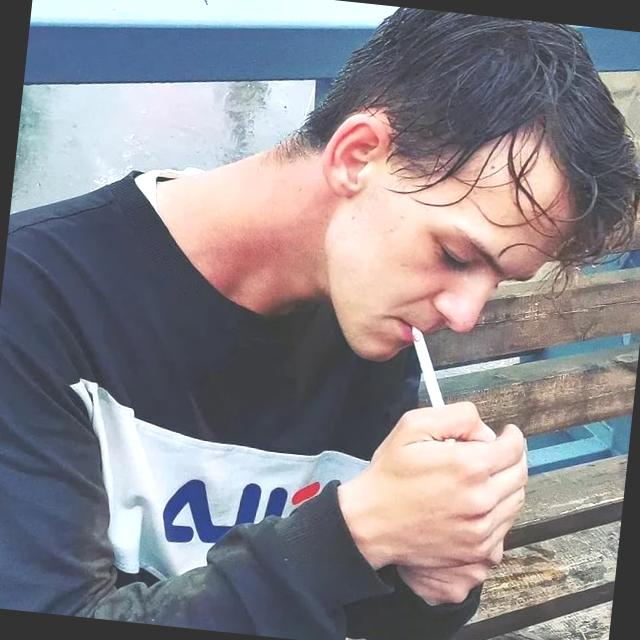smoke: (396, 320, 454, 410)
